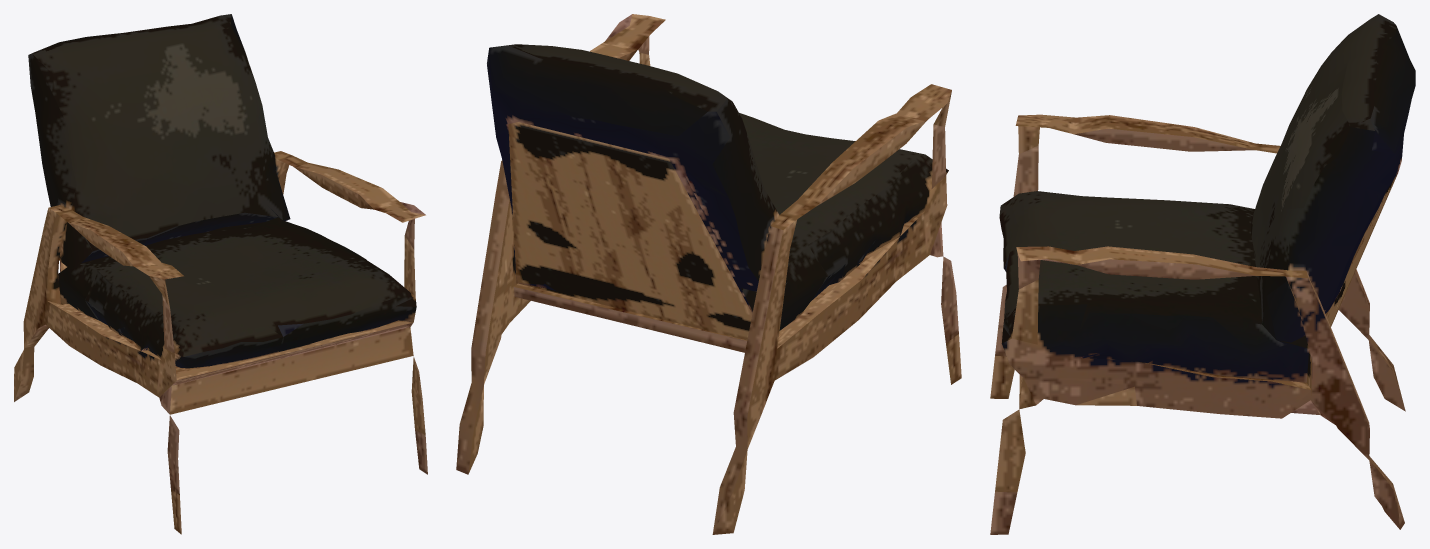
File: modern_arm_chair_01.glb
The picture shows the model from 3 angles, left to right: view 1: azimuth 30°, elevation 25°; view 2: azimuth 150°, elevation 25°; view 3: azimuth 270°, elevation 25°; orthographic projection. The views are drawn at different scales.
Visible parts, largest first — view 1: mesh; view 2: mesh; view 3: mesh.
Part boxes in pixels (x1=…): mesh: x1=14, y1=14, x2=427, y2=534; mesh: x1=456, y1=14, x2=961, y2=534; mesh: x1=990, y1=14, x2=1415, y2=534.
Bounding box in the file's own units: 0.8154 × 1.02 × 0.9863.
Materials: 1 (1 with a texture image).
